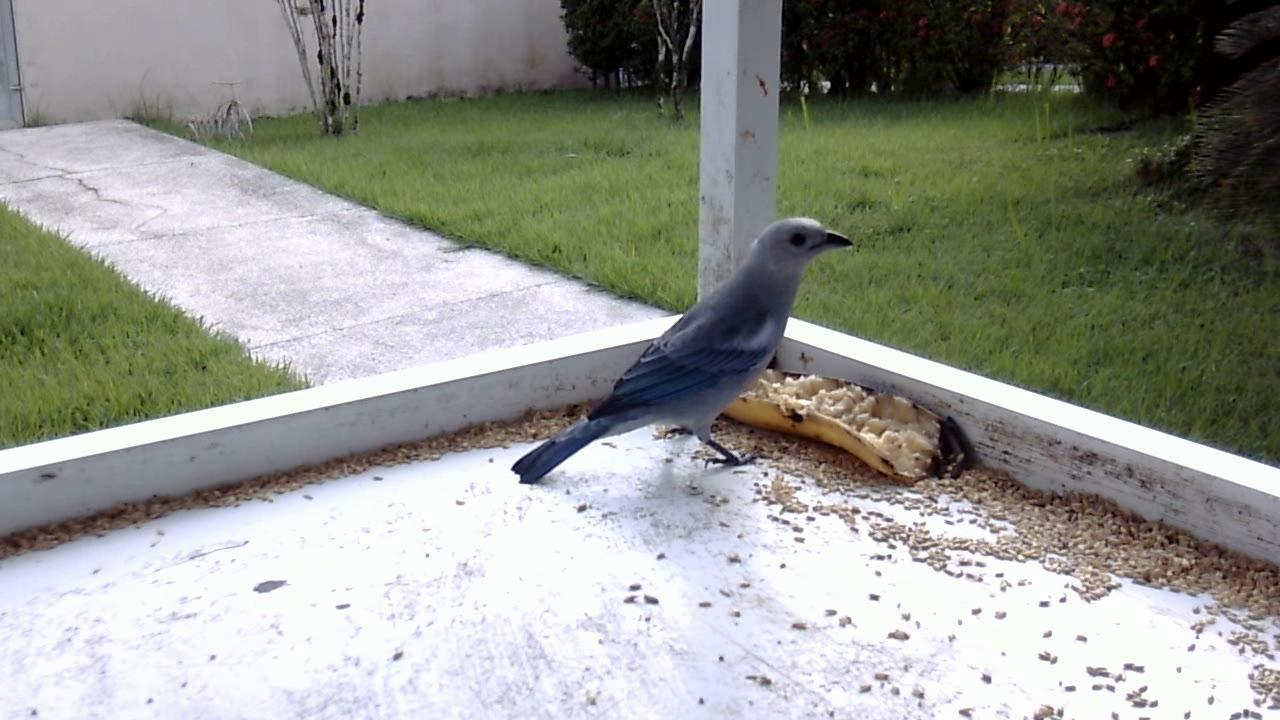sanhaco_da_amazonia: (504, 220, 852, 497)
